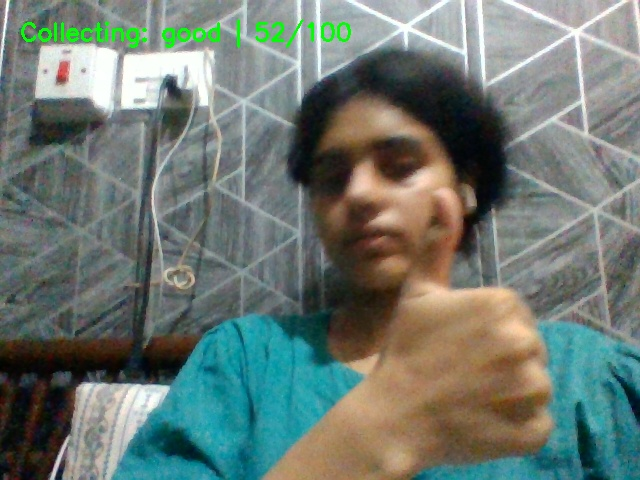good: (380, 140, 581, 480)
